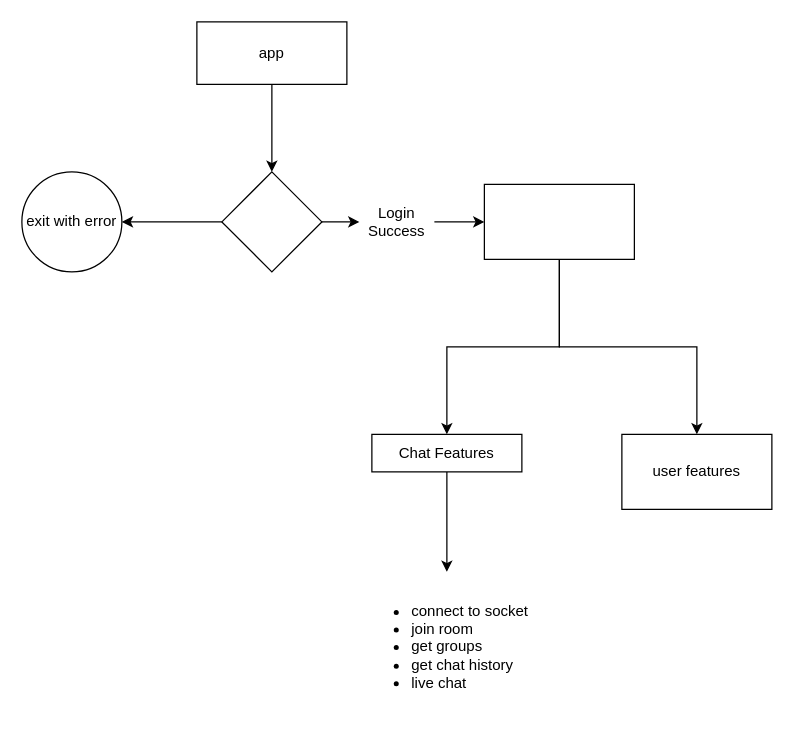
The diagram is 794 pixels wide and 744 high, and some of its shapes have lost their labels. The shapes that lost their labels are listed below. From the top down, each one's centre as x and y in pixels, then its label:
At (x=271, y=221): "login".
At (x=558, y=221): "Login and access user features".
